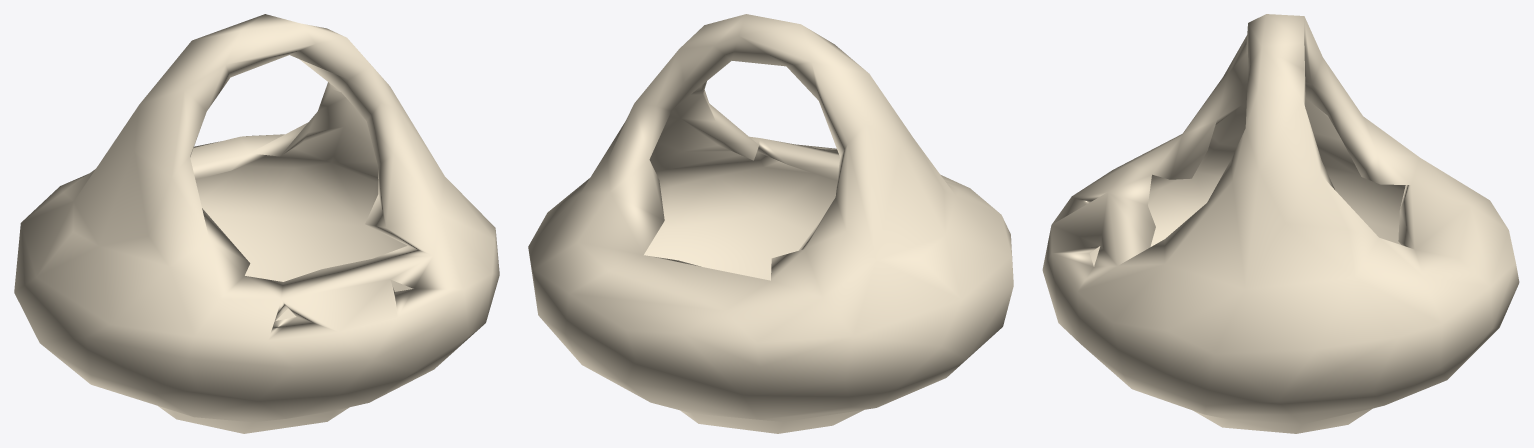
3 views of the same model, side by side, from view 1: azimuth 30°, elevation 25°; view 2: azimuth 150°, elevation 25°; view 3: azimuth 270°, elevation 25° (orthographic).
Visible parts, largest first — view 1: 고리형 조형 소품; view 2: 고리형 조형 소품; view 3: 고리형 조형 소품.
Part boxes in pixels (box(x1,y1,x2,y2)): 고리형 조형 소품: box(14, 14, 499, 433); 고리형 조형 소품: box(528, 14, 1013, 433); 고리형 조형 소품: box(1042, 14, 1519, 433).
Bounding box in the file's own units: 0.3745 × 0.3206 × 0.3777.
1 material, 1 textured.
